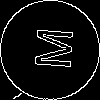M: (25, 25, 74, 71)
